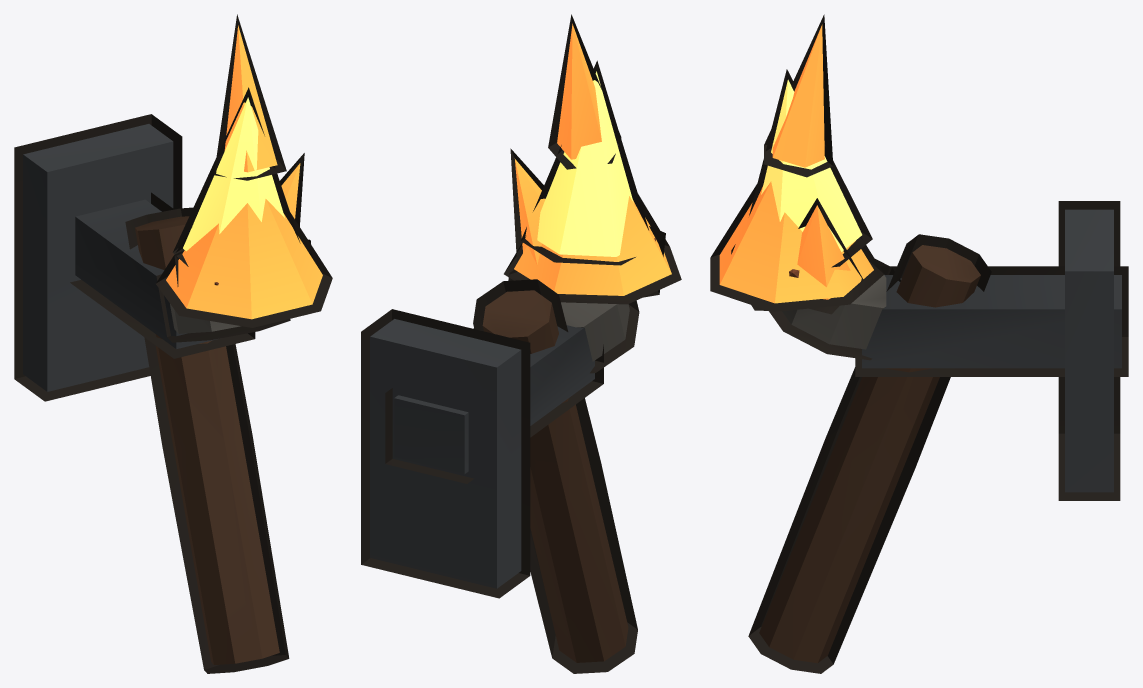
Rendered from torche_murale.glb.
3 views of the same model, side by side, from view 1: azimuth 30°, elevation 25°; view 2: azimuth 150°, elevation 25°; view 3: azimuth 270°, elevation 25° (orthographic).
Visible parts, largest first — view 1: torche_murale, torche_murale_outline; view 2: torche_murale, torche_murale_outline; view 3: torche_murale, torche_murale_outline.
Boxes of the visible parts, box(x1,y1,x2,y2) form: torche_murale: box(23, 25, 322, 664); torche_murale_outline: box(14, 14, 332, 673); torche_murale: box(370, 23, 671, 662); torche_murale_outline: box(361, 14, 681, 673); torche_murale: box(719, 24, 1121, 663); torche_murale_outline: box(710, 14, 1128, 673).
Bounding box in the file's own units: 0.2197 × 0.8881 × 0.5146.
